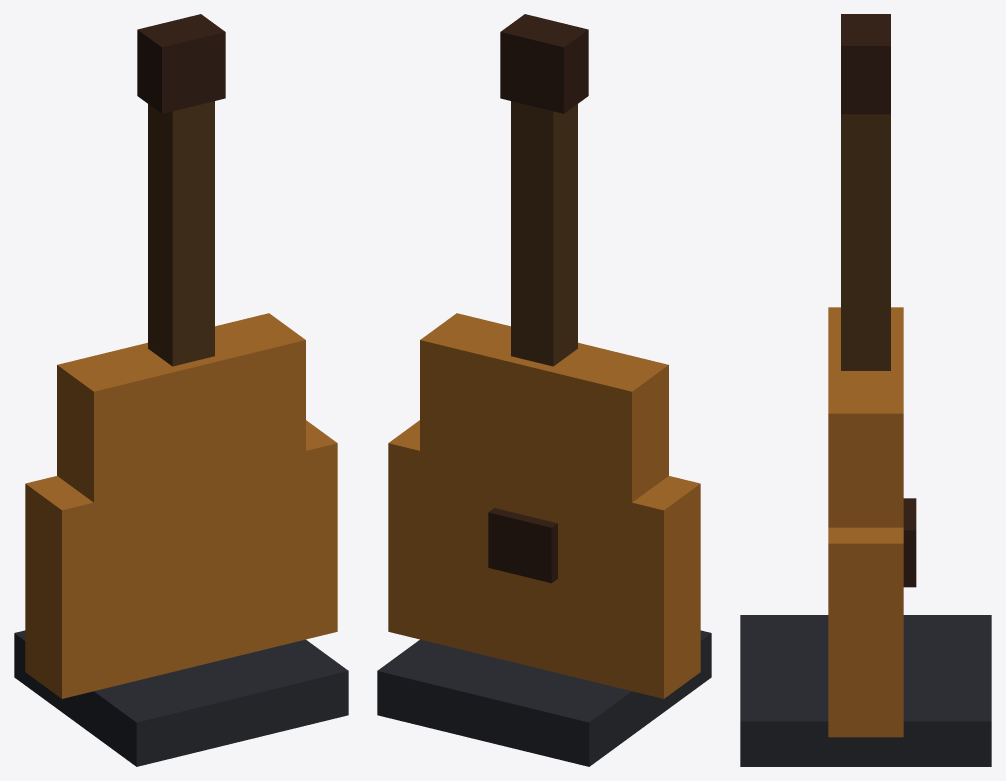
Rendered from th-guitar.glb.
3 renders of one model, left to right at view 1: azimuth 30°, elevation 25°; view 2: azimuth 150°, elevation 25°; view 3: azimuth 270°, elevation 25°, orthographic. The views are drawn at different scales.
Parts seen in each view (by area): view 1: box-prop; view 2: box-prop; view 3: box-prop.
Boxes of the visible parts, x1=… form: box-prop: x1=14, y1=14, x2=348, y2=766; box-prop: x1=377, y1=14, x2=711, y2=766; box-prop: x1=740, y1=14, x2=991, y2=766.
Bounding box in the file's own units: 0.52 × 1.2 × 0.4.
